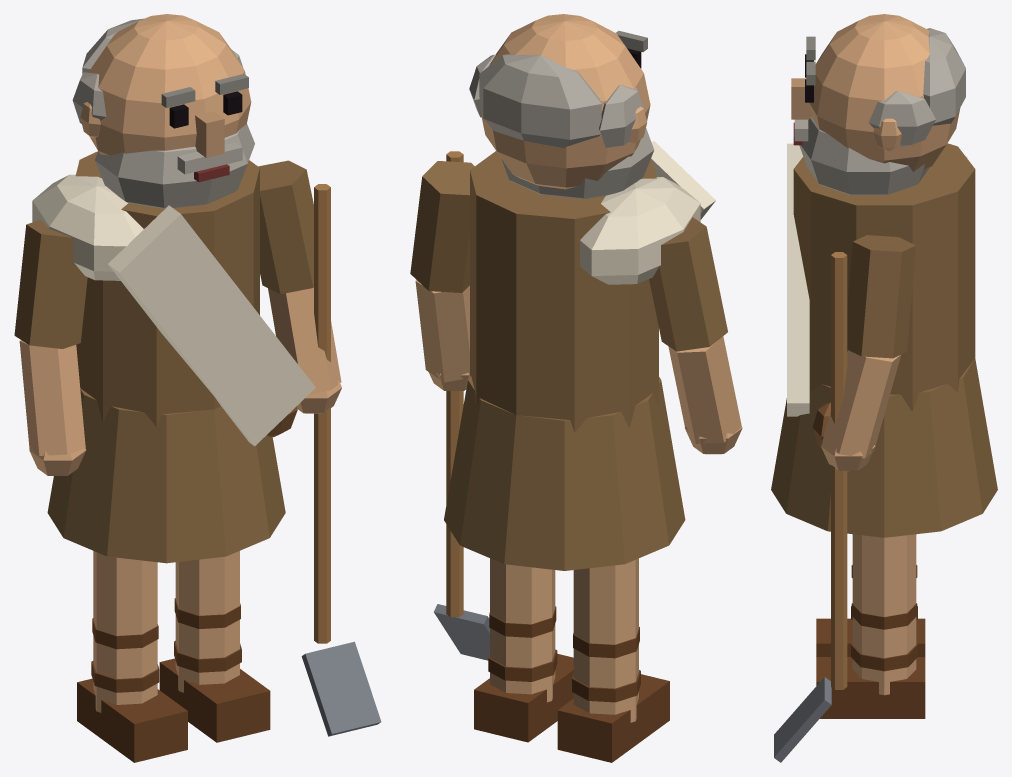
Rendered from cyncynat.glb.
The picture shows the model from 3 angles, left to right: view 1: azimuth 30°, elevation 25°; view 2: azimuth 150°, elevation 25°; view 3: azimuth 270°, elevation 25°; orthographic projection. The views are drawn at different scales.
Visible parts, largest first — view 1: cialo, glowa, reka_p, noga_l, reka_l, noga_p; view 2: cialo, glowa, reka_p, noga_l, reka_l, noga_p; view 3: cialo, glowa, reka_p, noga_p, noga_l.
Boxes of the visible parts, x1,y1,x2,y2 form: cialo: [32, 151, 315, 563]; glowa: [72, 14, 254, 208]; reka_p: [258, 160, 381, 736]; noga_l: [77, 551, 187, 762]; reka_l: [14, 219, 87, 475]; noga_p: [159, 551, 270, 742]; cialo: [444, 141, 715, 570]; glowa: [469, 14, 654, 199]; reka_p: [410, 151, 489, 660]; noga_l: [557, 558, 669, 762]; reka_l: [649, 217, 742, 454]; noga_p: [474, 558, 573, 742]; cialo: [771, 143, 997, 537]; glowa: [791, 14, 965, 195]; reka_p: [774, 235, 915, 762]; noga_p: [816, 534, 925, 718]; noga_l: [816, 565, 925, 656].
Size of the model in its own units: 0.746 by 1.63 by 0.5.
